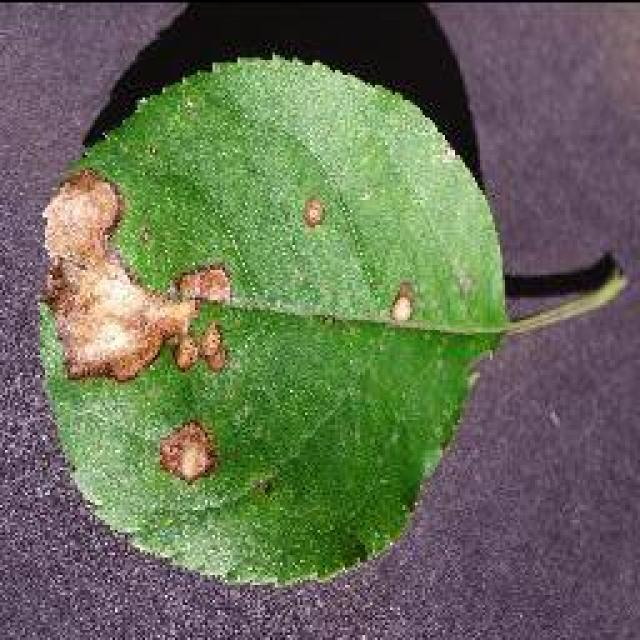Black_rot: (35, 50, 627, 588)
